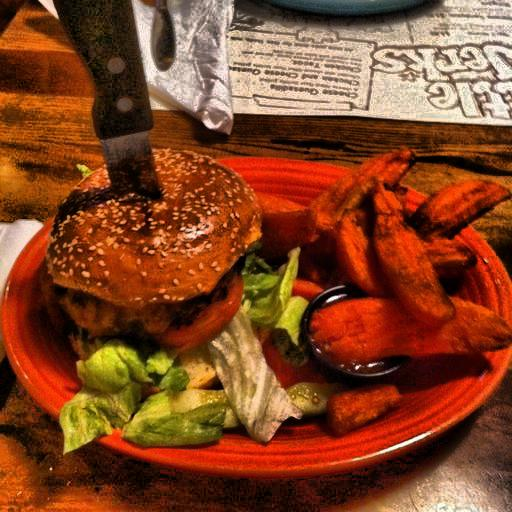burger: (36, 144, 260, 378)
